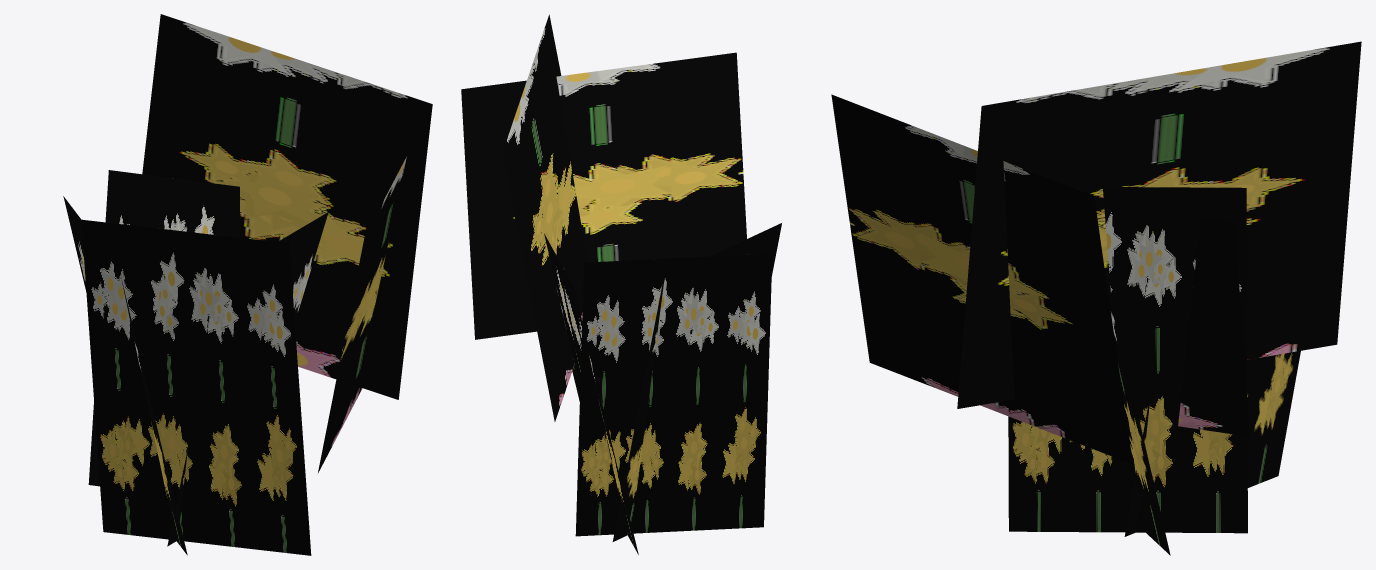
Rendered from flower-yellow.glb.
3 views of the same model, side by side, from view 1: azimuth 30°, elevation 25°; view 2: azimuth 150°, elevation 25°; view 3: azimuth 270°, elevation 25° (orthographic). The views are drawn at different scales.
Visible parts, largest first — view 1: flower-clump; view 2: flower-clump; view 3: flower-clump.
Boxes of the visible parts, <box> form: flower-clump: <box>63,14,432,555</box>; flower-clump: <box>461,14,781,554</box>; flower-clump: <box>831,41,1361,555</box>.
Size of the model in its own units: 0.6157 by 0.6672 by 0.6459.
1 material, 1 textured.
